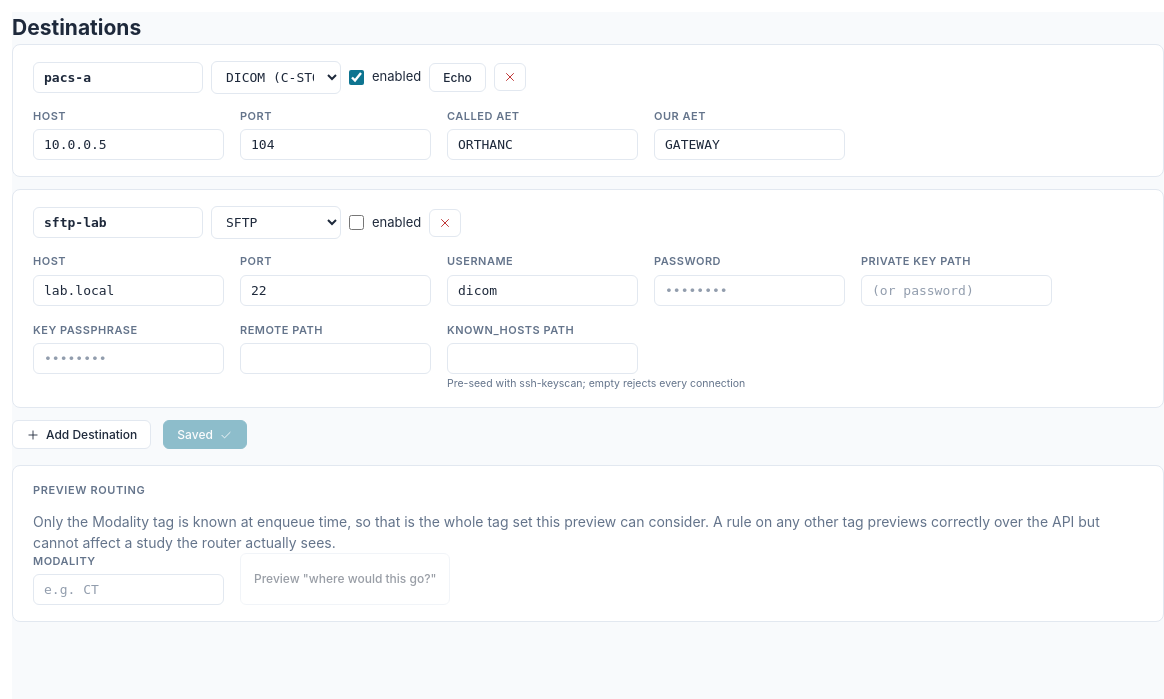
DestinationsView › blocks duplicate and empty names inline, not after a save
Expected: the 1st field showing "pacs-a" is shown, [33,62,203,92]
# Duplicate the existing name.
Click the button "Add Destination" at (82, 435), box [12,420,151,449]
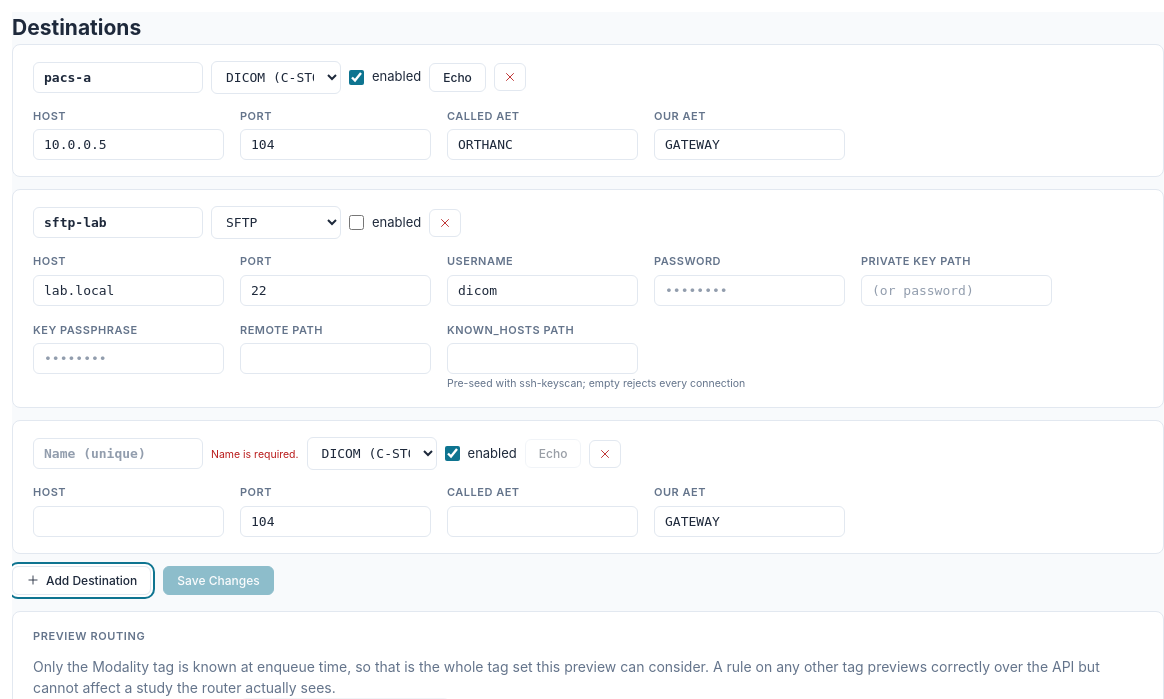
Type "pacs-a" into the field named "Destination name" at (118, 454), box [33,438,203,469]
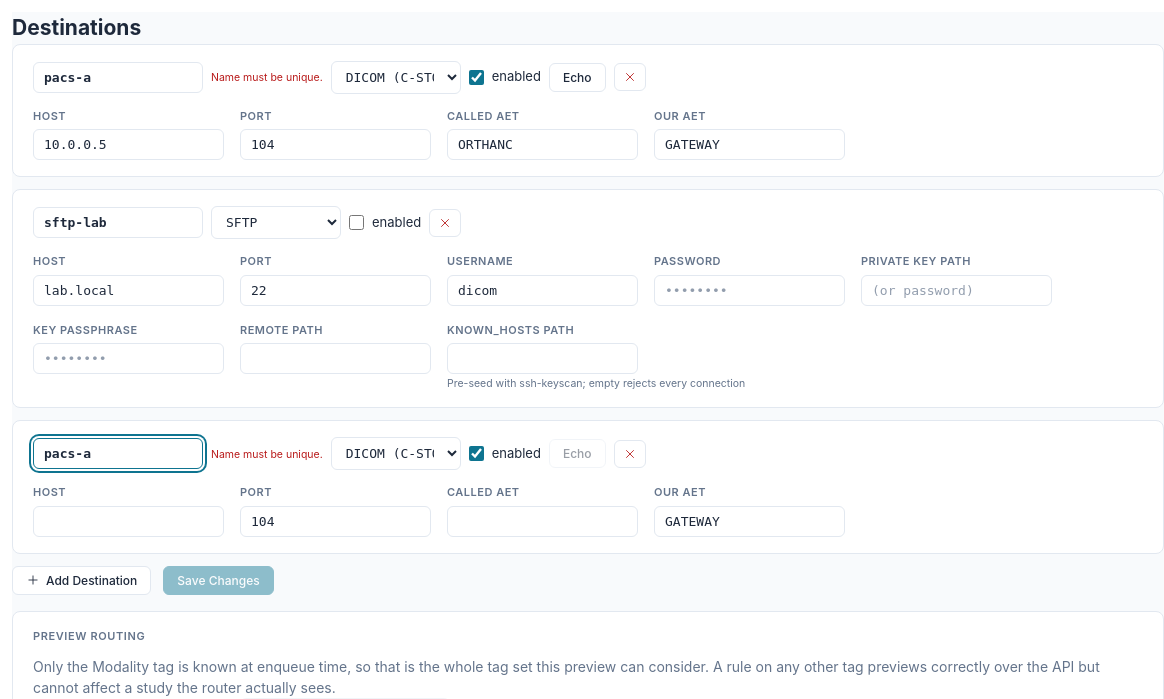
Expected: the button "Save Changes" is disabled, [163,566,274,595]
Now the text "Name must be unique." is shown 2 times, box [211,71,323,86]; [211,448,323,462]
# Fixing it re-enables the save.
Replace the text in the 3rd field named "Destination name" with "pacs-c" at (118, 454), box [33,438,203,469]
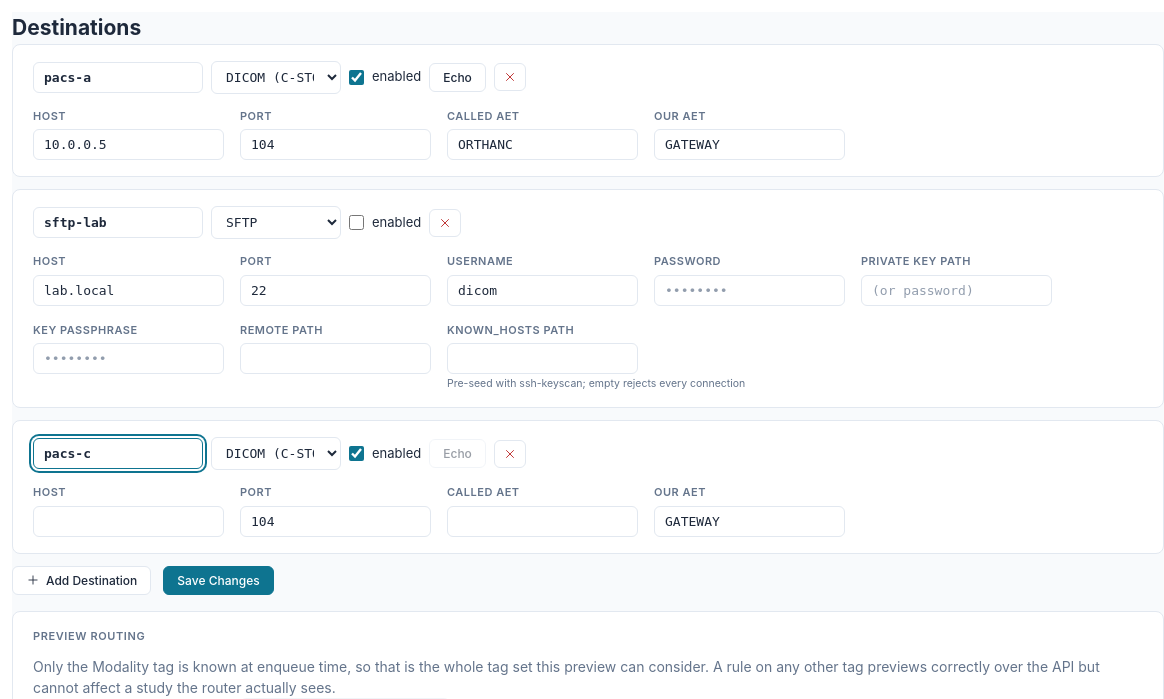
Now the button "Save Changes" is enabled, box [163,566,274,595]
